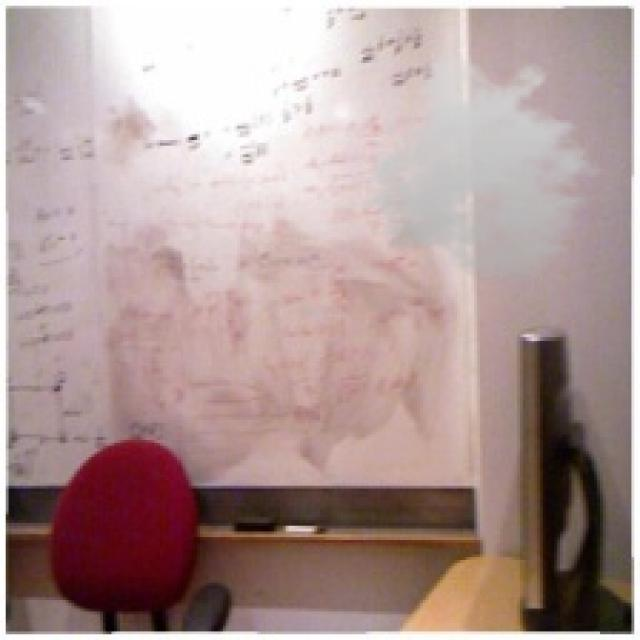Smoke: (360, 54, 620, 283)
